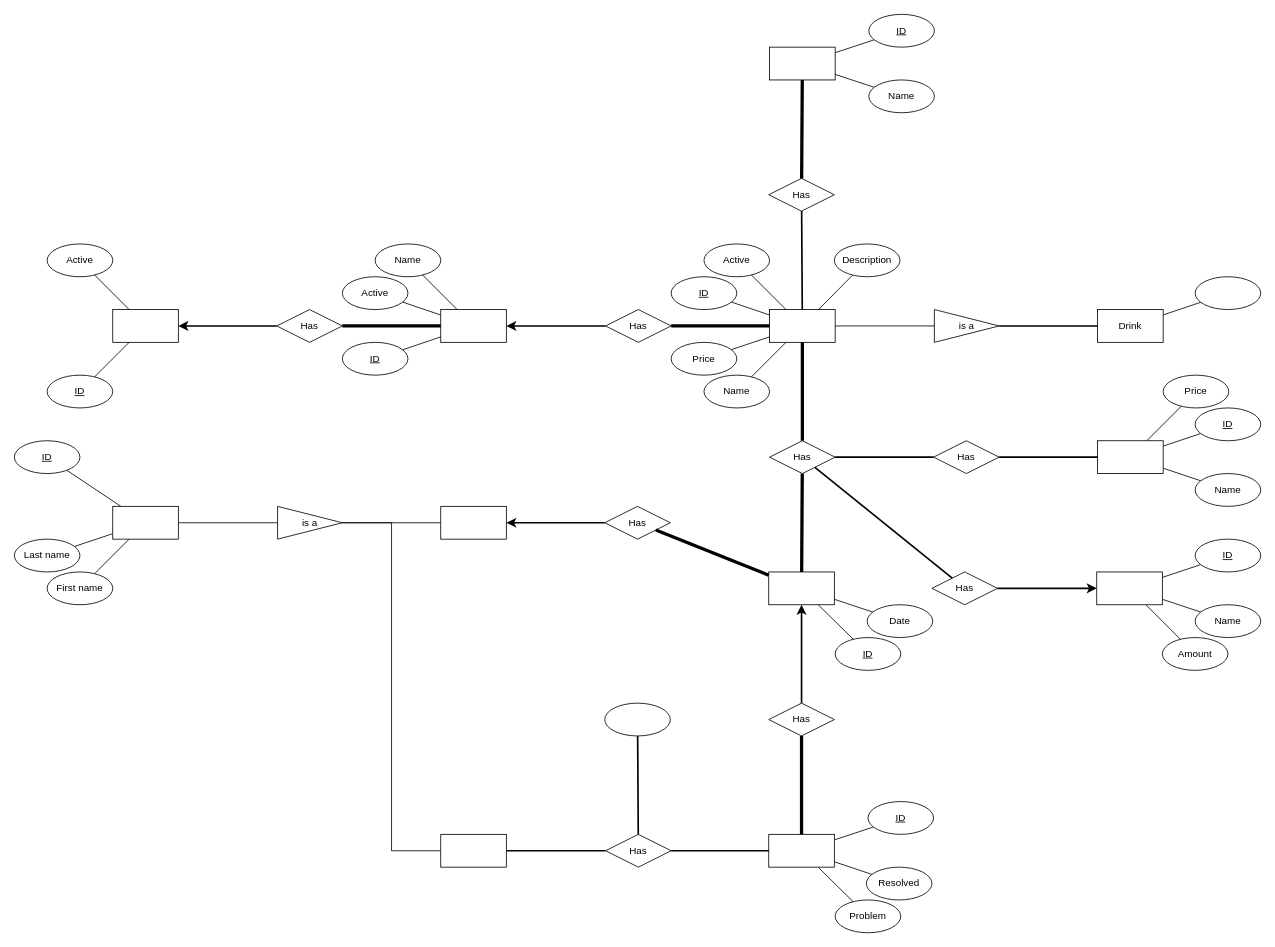
Some shapes in this 1275 by 947 pixel diagram are drawn without their labels. The shapes that lost their labels are listed below. From the top down, each one's centre as x and y in pixels, then its label:
At pixel 802 63: "Description Tag".
At pixel 1227 293: "Size".
At pixel 145 325: "Menu".
At pixel 473 325: "Category".
At pixel 802 325: "Food Item".
At pixel 1130 457: "Extra".
At pixel 145 522: "Custom User".
At pixel 473 522: "Customer".
At pixel 801 588: "Transaction".
At pixel 1129 588: "Discount".
At pixel 637 719: "Notes".
At pixel 473 850: "Waiter".
At pixel 801 850: "Assistance".
